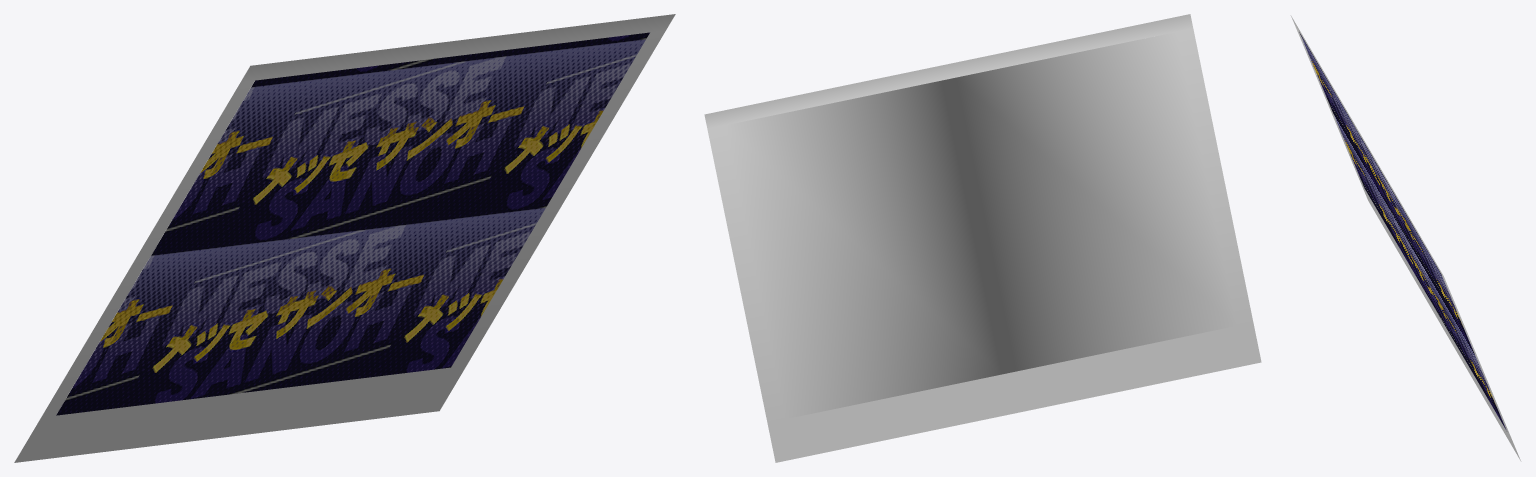
The model's file is KOUI04.glb.
3 renders of one model, left to right at view 1: azimuth 30°, elevation 25°; view 2: azimuth 150°, elevation 25°; view 3: azimuth 270°, elevation 25°, orthographic. The views are drawn at different scales.
Visible parts, largest first — view 1: FRAME_ROOT; view 2: FRAME_ROOT; view 3: FRAME_ROOT.
Part boxes in pixels (left/top/right/bottom): FRAME_ROOT: left=14, top=14, right=675, bottom=462; FRAME_ROOT: left=704, top=14, right=1261, bottom=462; FRAME_ROOT: left=1290, top=15, right=1521, bottom=461.
Bounding box in the file's own units: 4.28 × 3.3 × 2.04.
2 materials, 2 textured.
